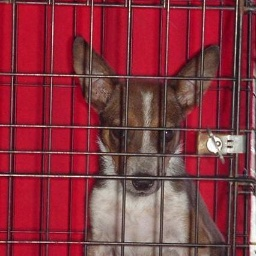dog: (67, 31, 219, 256)
